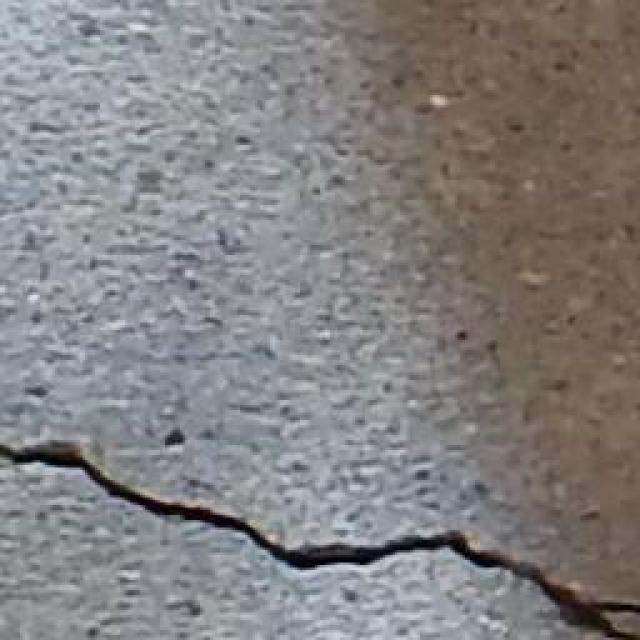concrete-crack: (0, 442, 640, 640)
